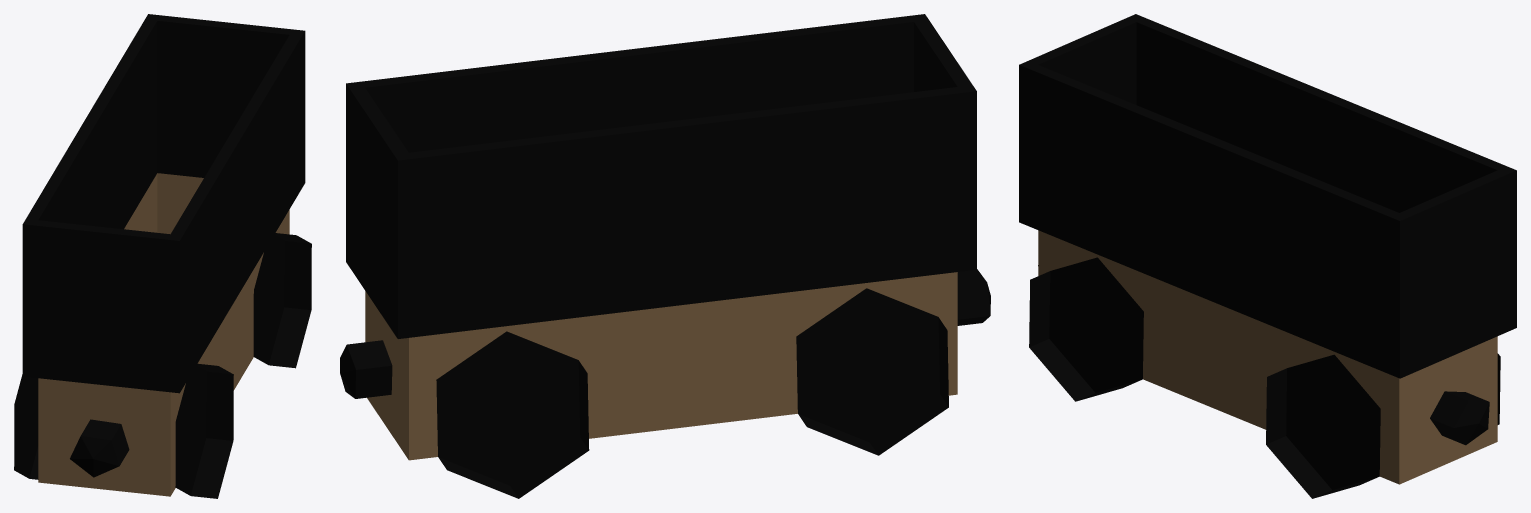
File: transport wagon.fbx
The picture shows the model from 3 angles, left to right: view 1: azimuth 30°, elevation 25°; view 2: azimuth 150°, elevation 25°; view 3: azimuth 270°, elevation 25°; orthographic projection. The views are drawn at different scales.
Parts seen in each view (by area): view 1: Transport Trein; view 2: Transport Trein; view 3: Transport Trein.
Boxes of the visible parts, box(x1,y1,x2,y2) form: Transport Trein: box(14, 14, 311, 498); Transport Trein: box(340, 14, 990, 498); Transport Trein: box(1019, 14, 1516, 498).
Bounding box in the file's own units: 15.59 × 10.66 × 15.83.
